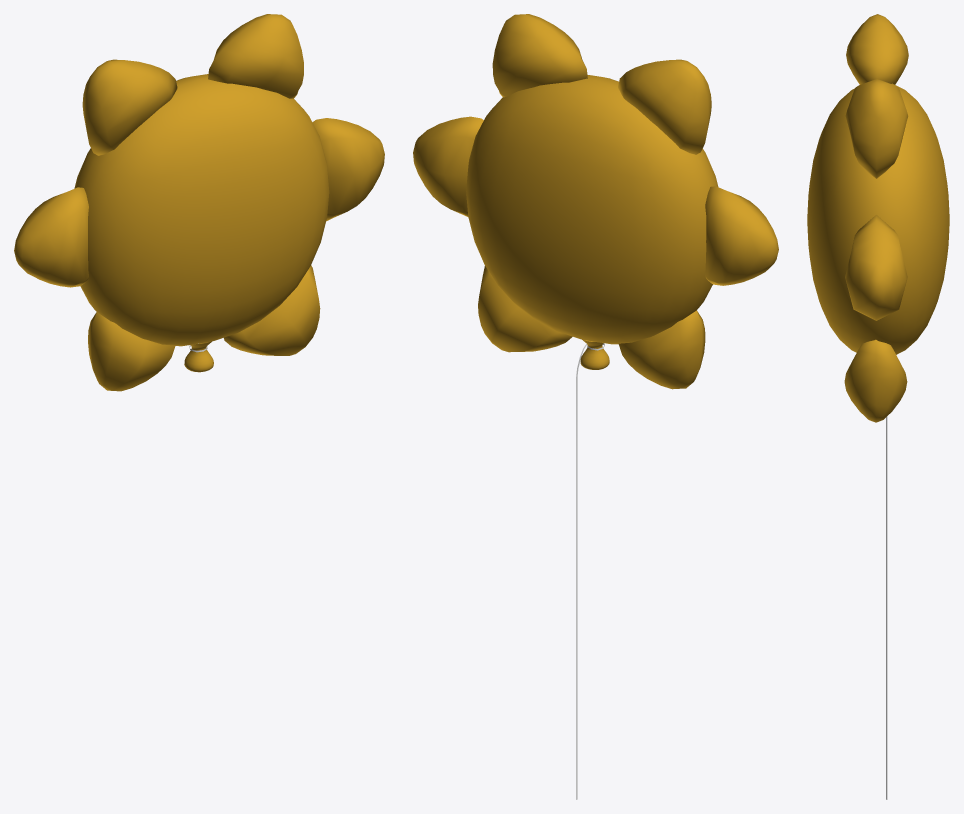
Rendered from SunBalloon.fbx.
3 renders of one model, left to right at view 1: azimuth 30°, elevation 25°; view 2: azimuth 150°, elevation 25°; view 3: azimuth 270°, elevation 25°, orthographic. The views are drawn at different scales.
Visible parts, largest first — view 1: Object004; view 2: Object004; view 3: Object004.
Part boxes in pixels (x1,y1,x2,y2): Object004: (14, 14, 384, 391); Object004: (413, 14, 778, 799); Object004: (807, 14, 949, 799).
Size of the model in its own units: 124 by 249 by 43.26.
